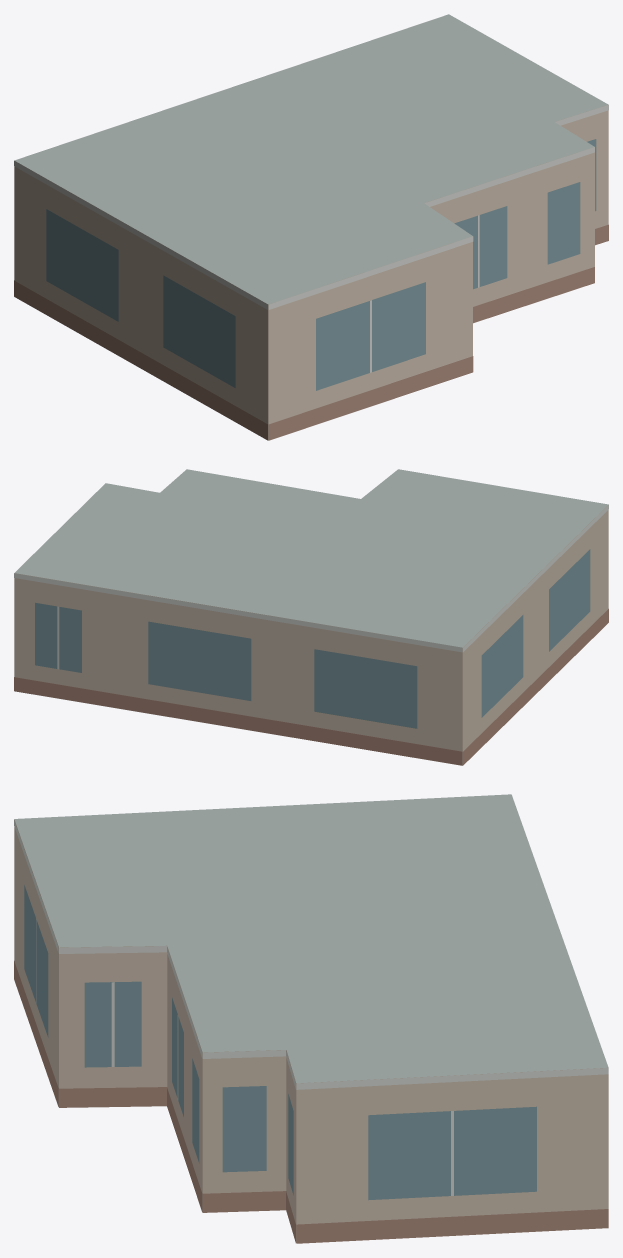
File: survey-upis-32629814.glb
3 views of the same model, one above another, from view 1: azimuth 30°, elevation 25°; view 2: azimuth 150°, elevation 25°; view 3: azimuth 270°, elevation 25° (orthographic). The views are drawn at different scales.
Parts seen in each view (by area): view 1: survey-upis-32629814.tmp; view 2: survey-upis-32629814.tmp; view 3: survey-upis-32629814.tmp.
Part boxes in pixels (x1,y1,x2,y2): survey-upis-32629814.tmp: [14, 14, 608, 440]; survey-upis-32629814.tmp: [14, 469, 608, 765]; survey-upis-32629814.tmp: [14, 794, 608, 1243].
Bounding box in the file's own units: 11.81 × 3.05 × 10.26.
